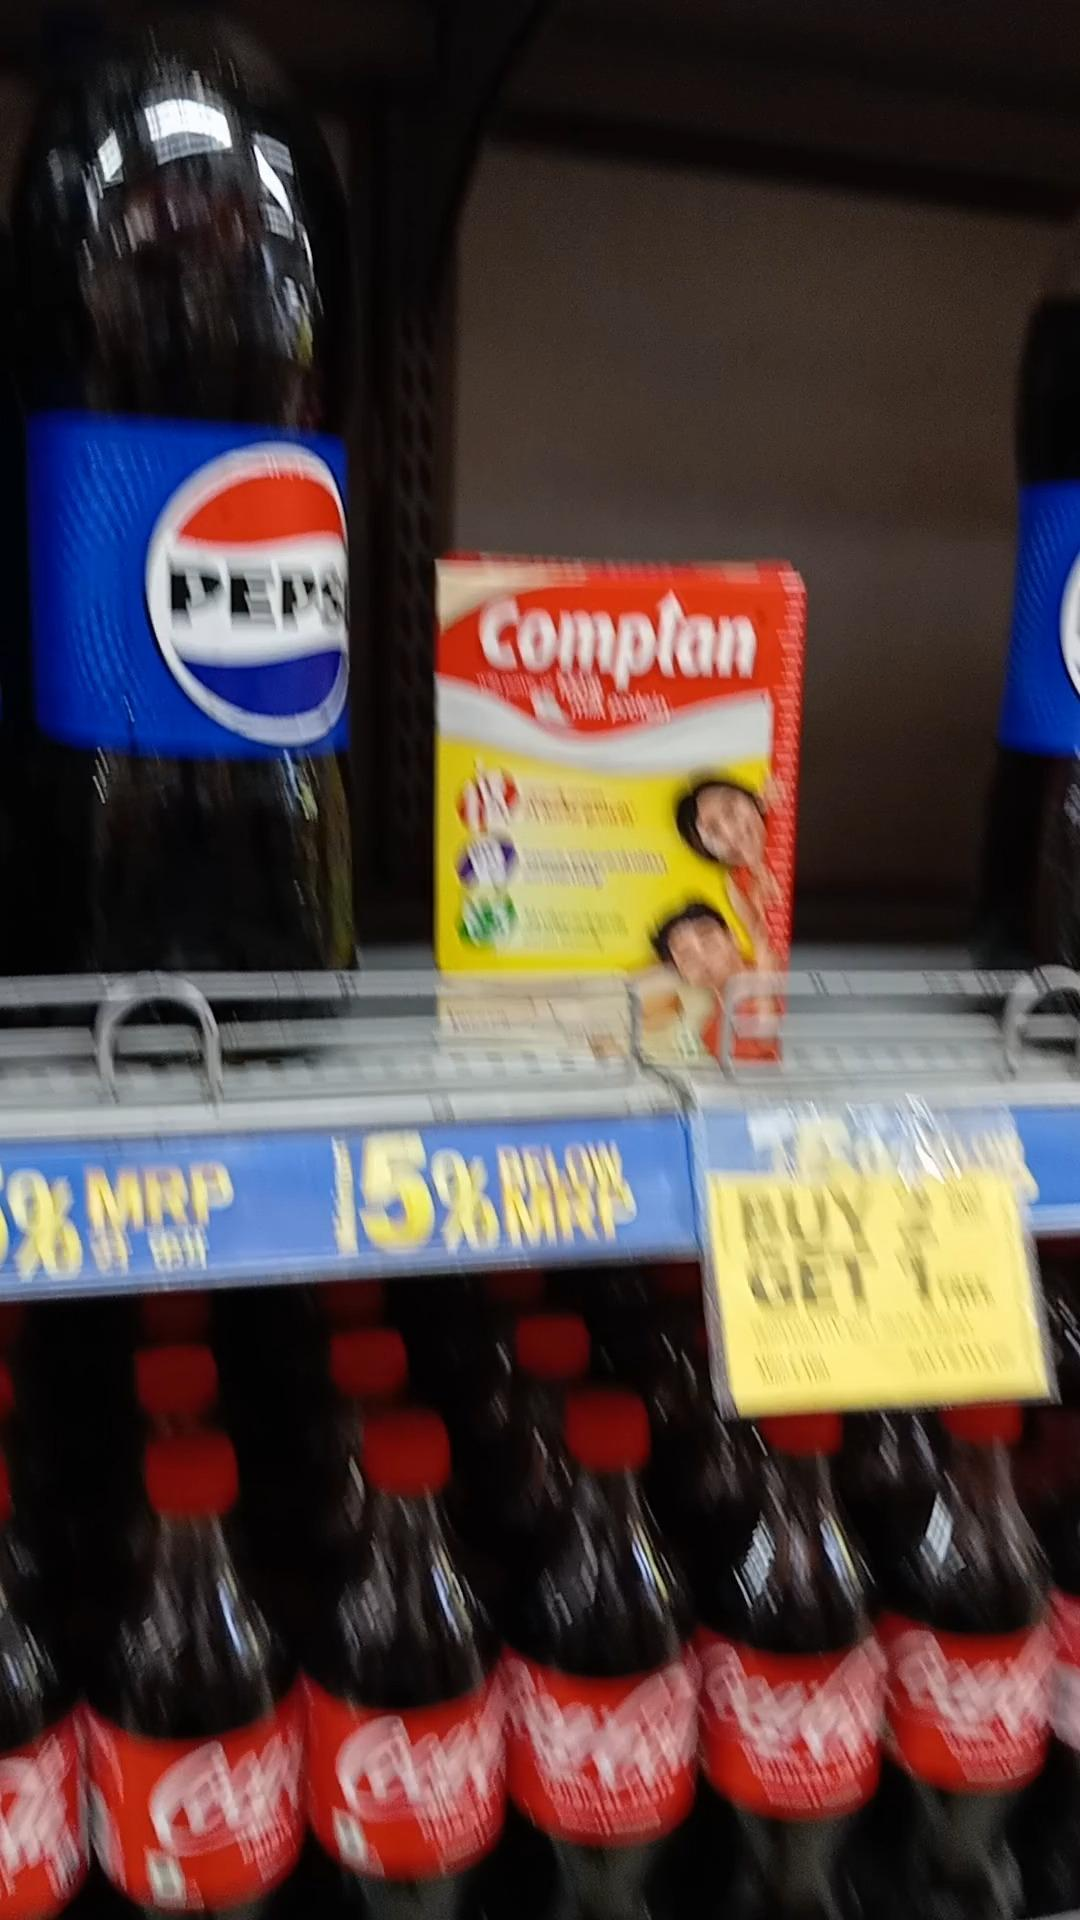COMPLAN_CHOCOLATE_200_GMS_JAR: (443, 566, 779, 1062)
